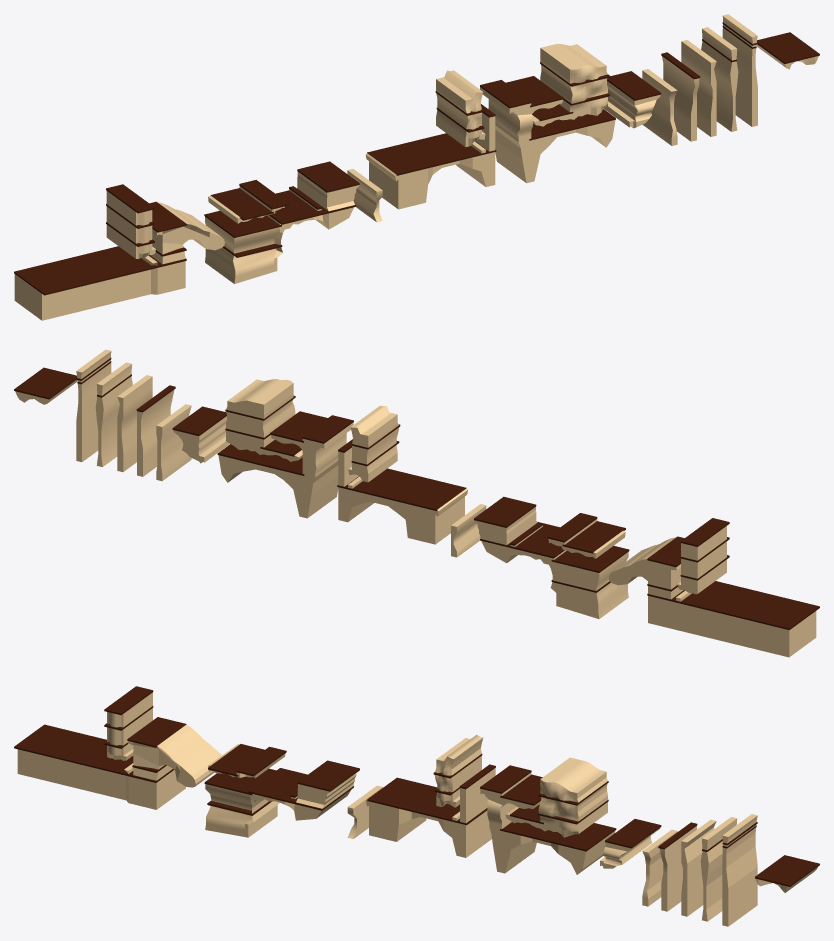
The model's file is map4.FBX.
The picture shows the model from 3 angles, top to bottom: view 1: azimuth 30°, elevation 25°; view 2: azimuth 150°, elevation 25°; view 3: azimuth 330°, elevation 25°; orthographic projection.
Parts seen in each view (by area): view 1: Box001; view 2: Box001; view 3: Box001.
Boxes of the visible parts, x1,y1,x2,y2 form: Box001: (14,14,819,320); Box001: (14,349,819,657); Box001: (14,686,819,926).
Bounding box in the file's own units: 820 × 60.38 × 134.
